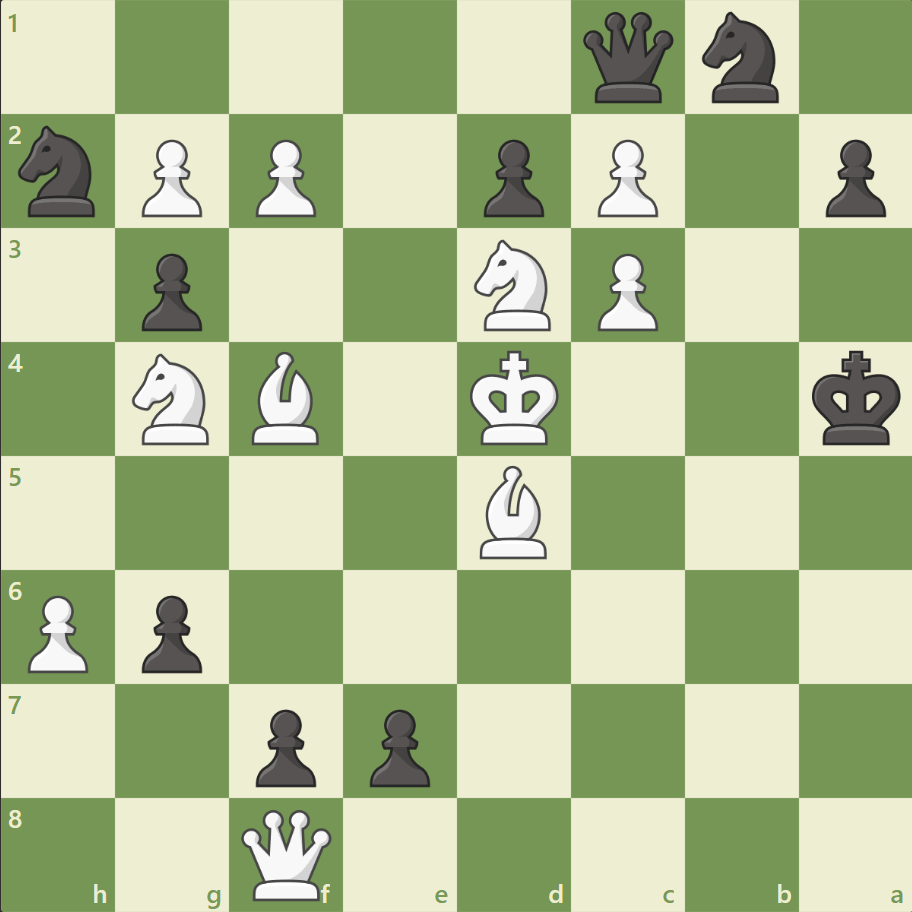B: (471, 460, 555, 563), (244, 347, 328, 449)
K: (465, 344, 565, 452)
N: (124, 348, 222, 450), (465, 234, 562, 337)
P: (20, 586, 95, 677), (247, 132, 322, 223), (133, 132, 208, 223), (588, 246, 662, 337), (588, 132, 662, 223)
Q: (237, 804, 336, 903)
k: (806, 344, 906, 452)
n: (692, 7, 789, 110), (11, 121, 108, 223)
p: (247, 700, 322, 791), (133, 586, 208, 677), (133, 246, 208, 337), (474, 132, 549, 223), (361, 700, 435, 791), (815, 132, 889, 223)
q: (578, 9, 677, 108)
